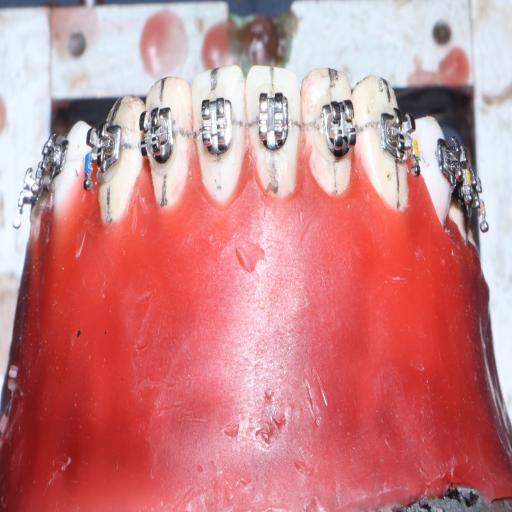incorrect_brace: (197, 95, 235, 156)
